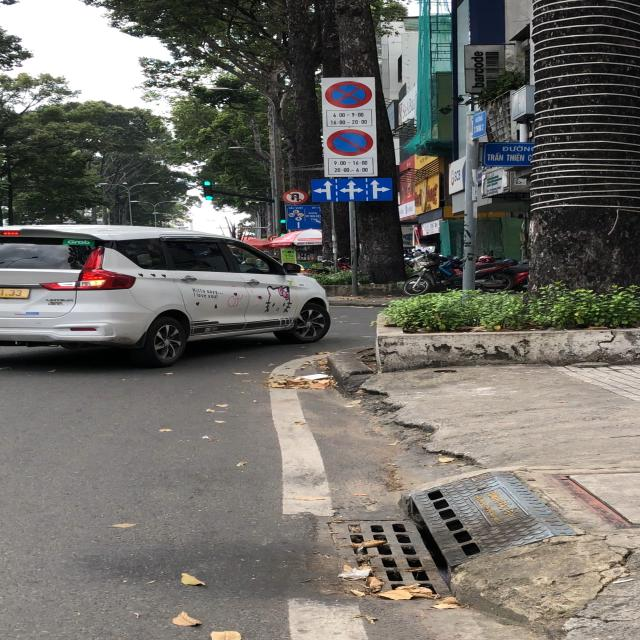Bien bao cam do xe: (323, 129, 376, 158)
Bien bao cam dung xe va do xe: (323, 80, 375, 110)
Bien bao cam quay dau xe: (281, 187, 308, 204)
